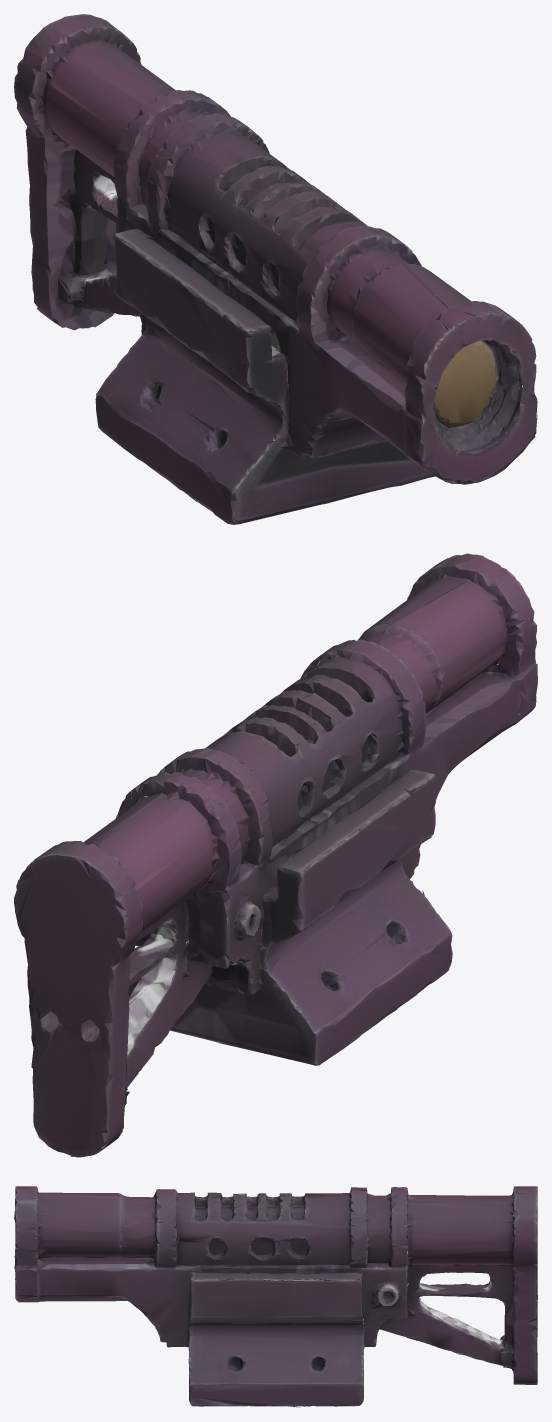
Rendered from f1_gatling.glb.
3 views of the same model, one above another, from view 1: azimuth 30°, elevation 25°; view 2: azimuth 150°, elevation 25°; view 3: azimuth 270°, elevation 25° (orthographic). The views are drawn at different scales.
Visible parts, largest first — view 1: Gatling_F1; view 2: Gatling_F1; view 3: Gatling_F1.
Boxes of the visible parts, x1,y1,x2,y2 form: Gatling_F1: (14, 14, 537, 524); Gatling_F1: (14, 553, 537, 1157); Gatling_F1: (14, 1186, 537, 1407).
Bounding box in the file's own units: 0.2489 × 0.3247 × 0.8023.
Materials: 1 (1 with a texture image).
